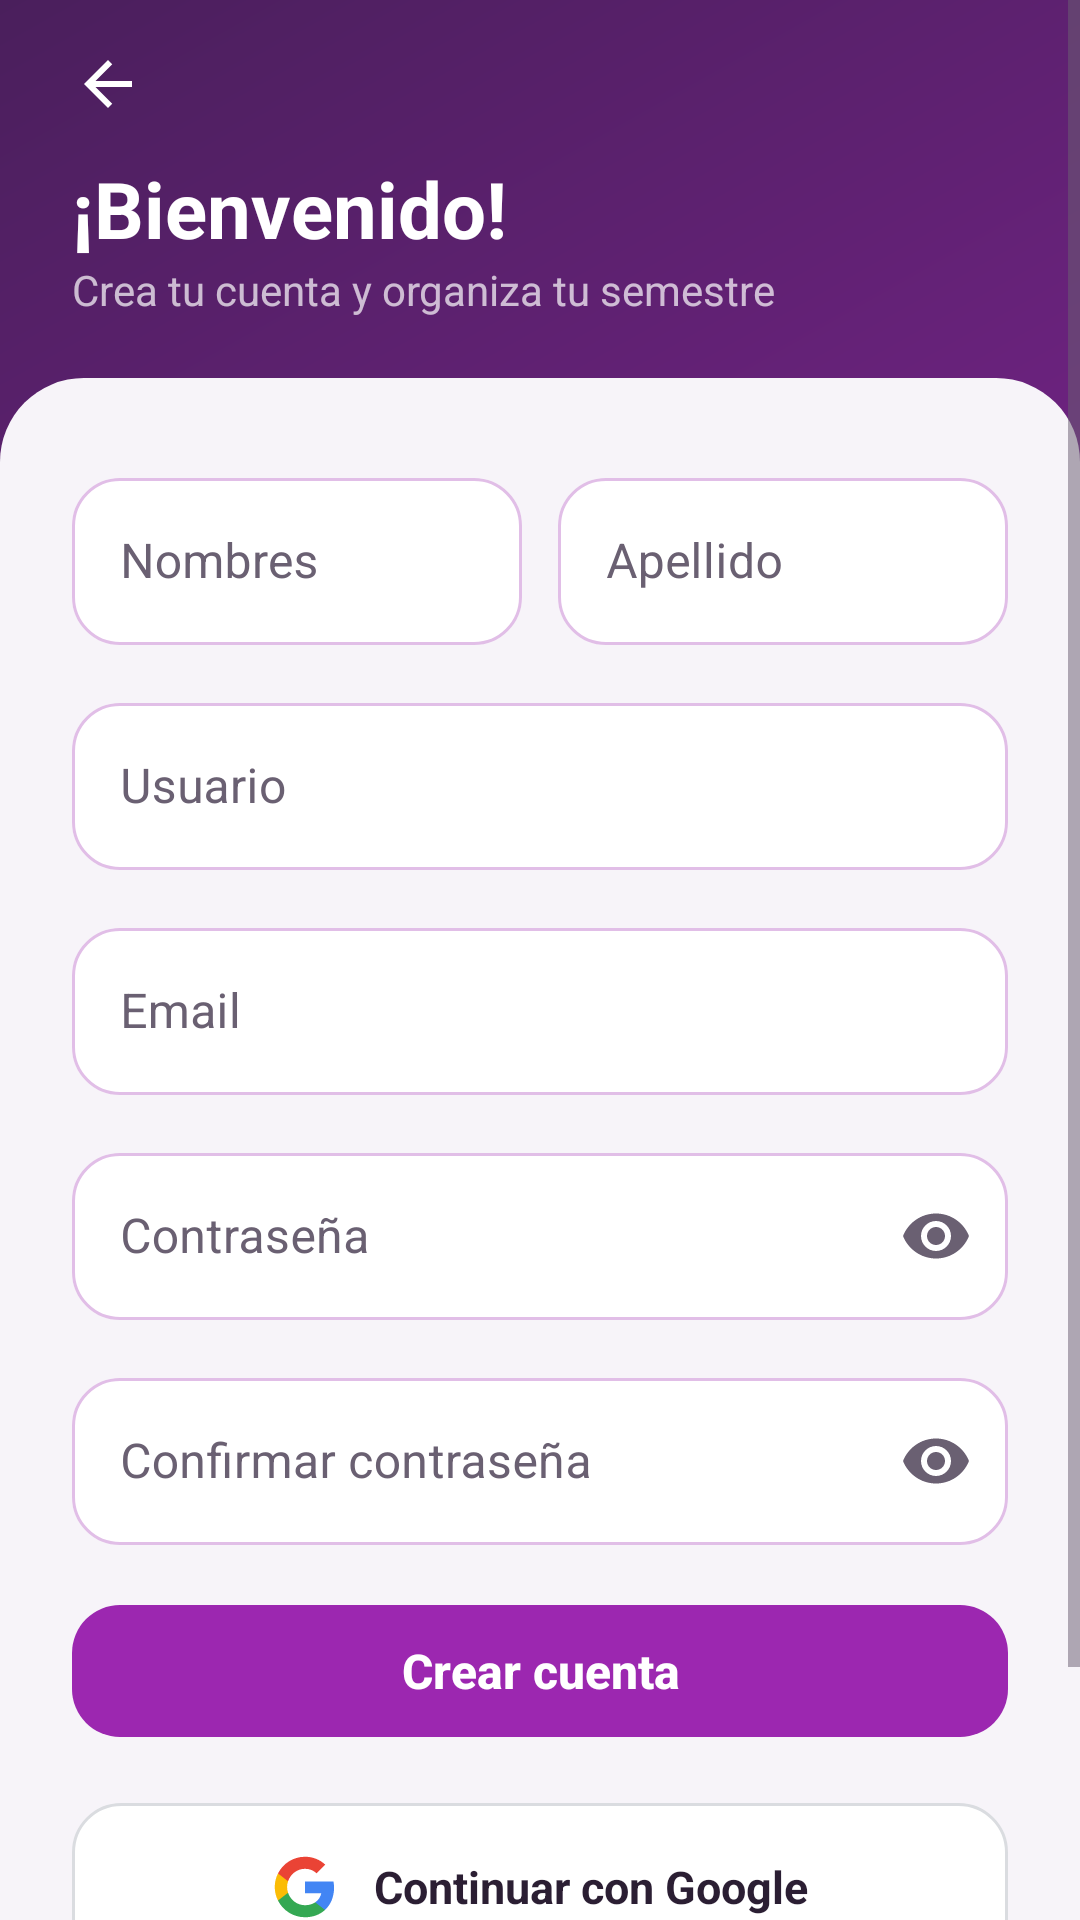

Where to tap for icons on this 1080w x 1920h app screen, as (x,y):
Volver: (108,84)
